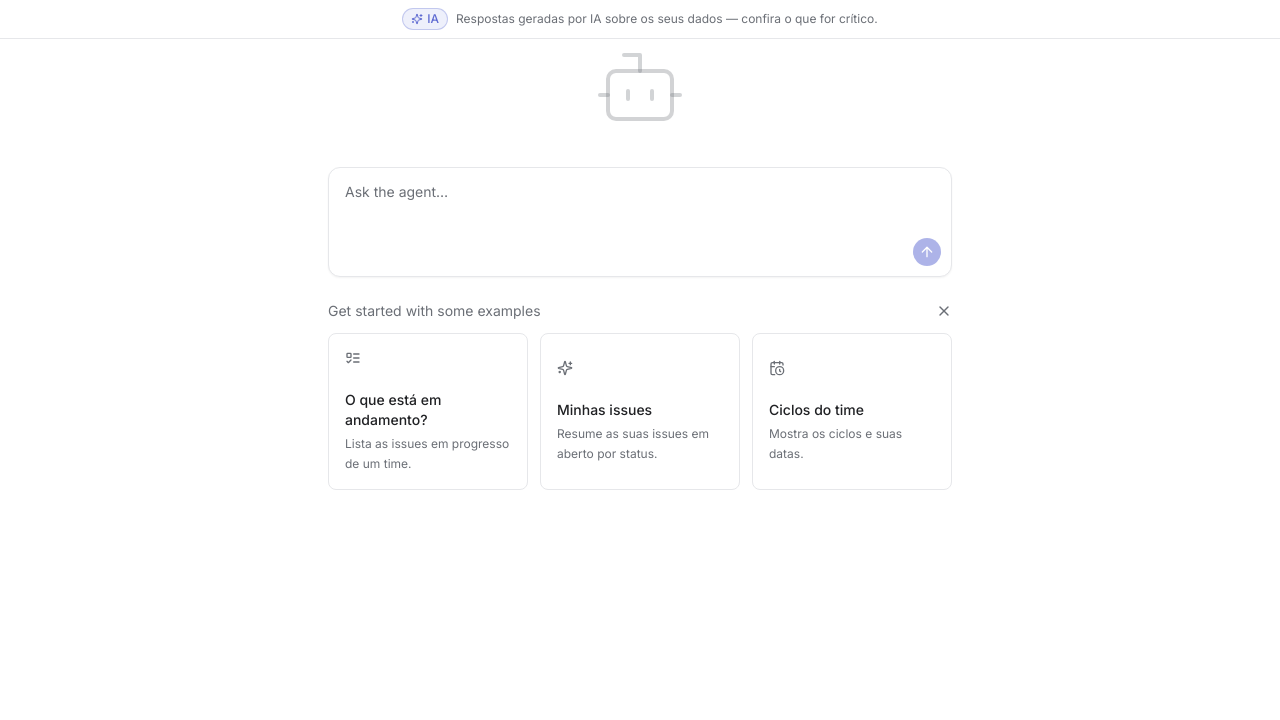
Test: agent — falha do provedor (co#12) › 503 do provedor não culpa a conexão
The width and height of the screenshot is (1280, 720).
Type "oi" into the text box with placeholder "Ask the agent…".
click(640, 200); type("oi")  # box [329,168,951,232]
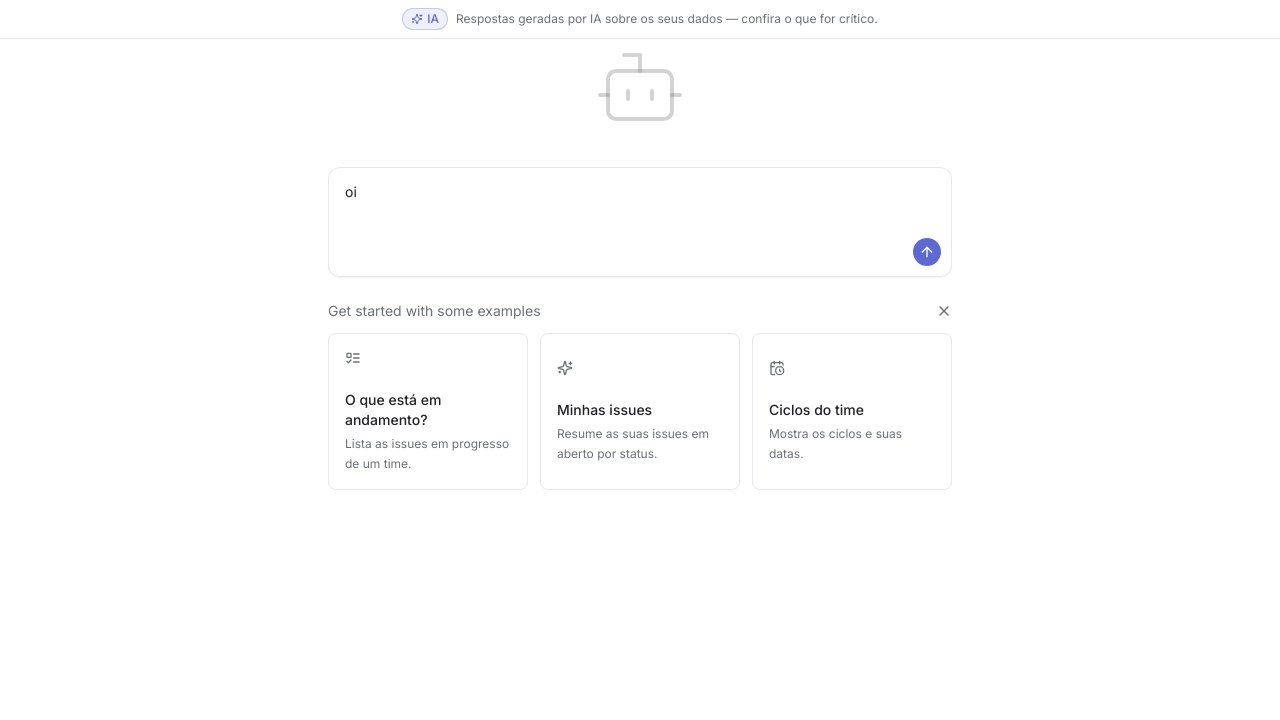
Press Enter in the text box with placeholder ".", box [329,168,951,232]
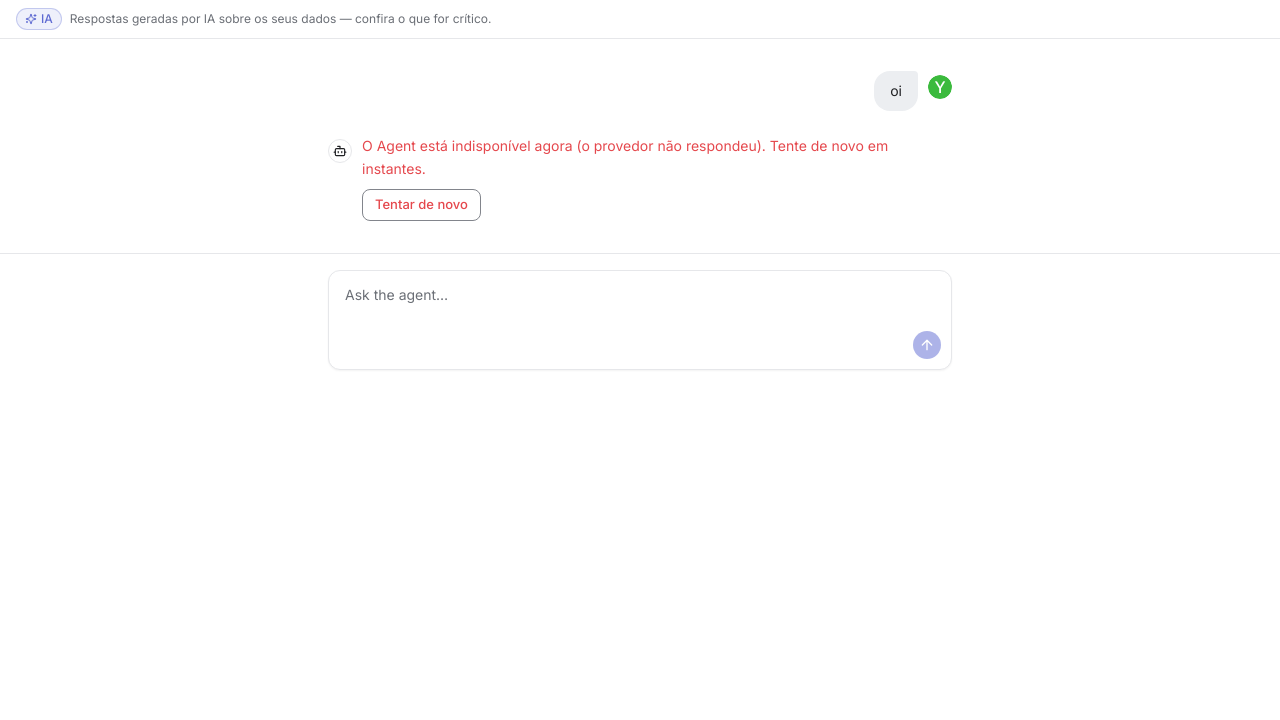
expect the text "Agent está indisponível" is shown: met, box [362,137,888,177]
